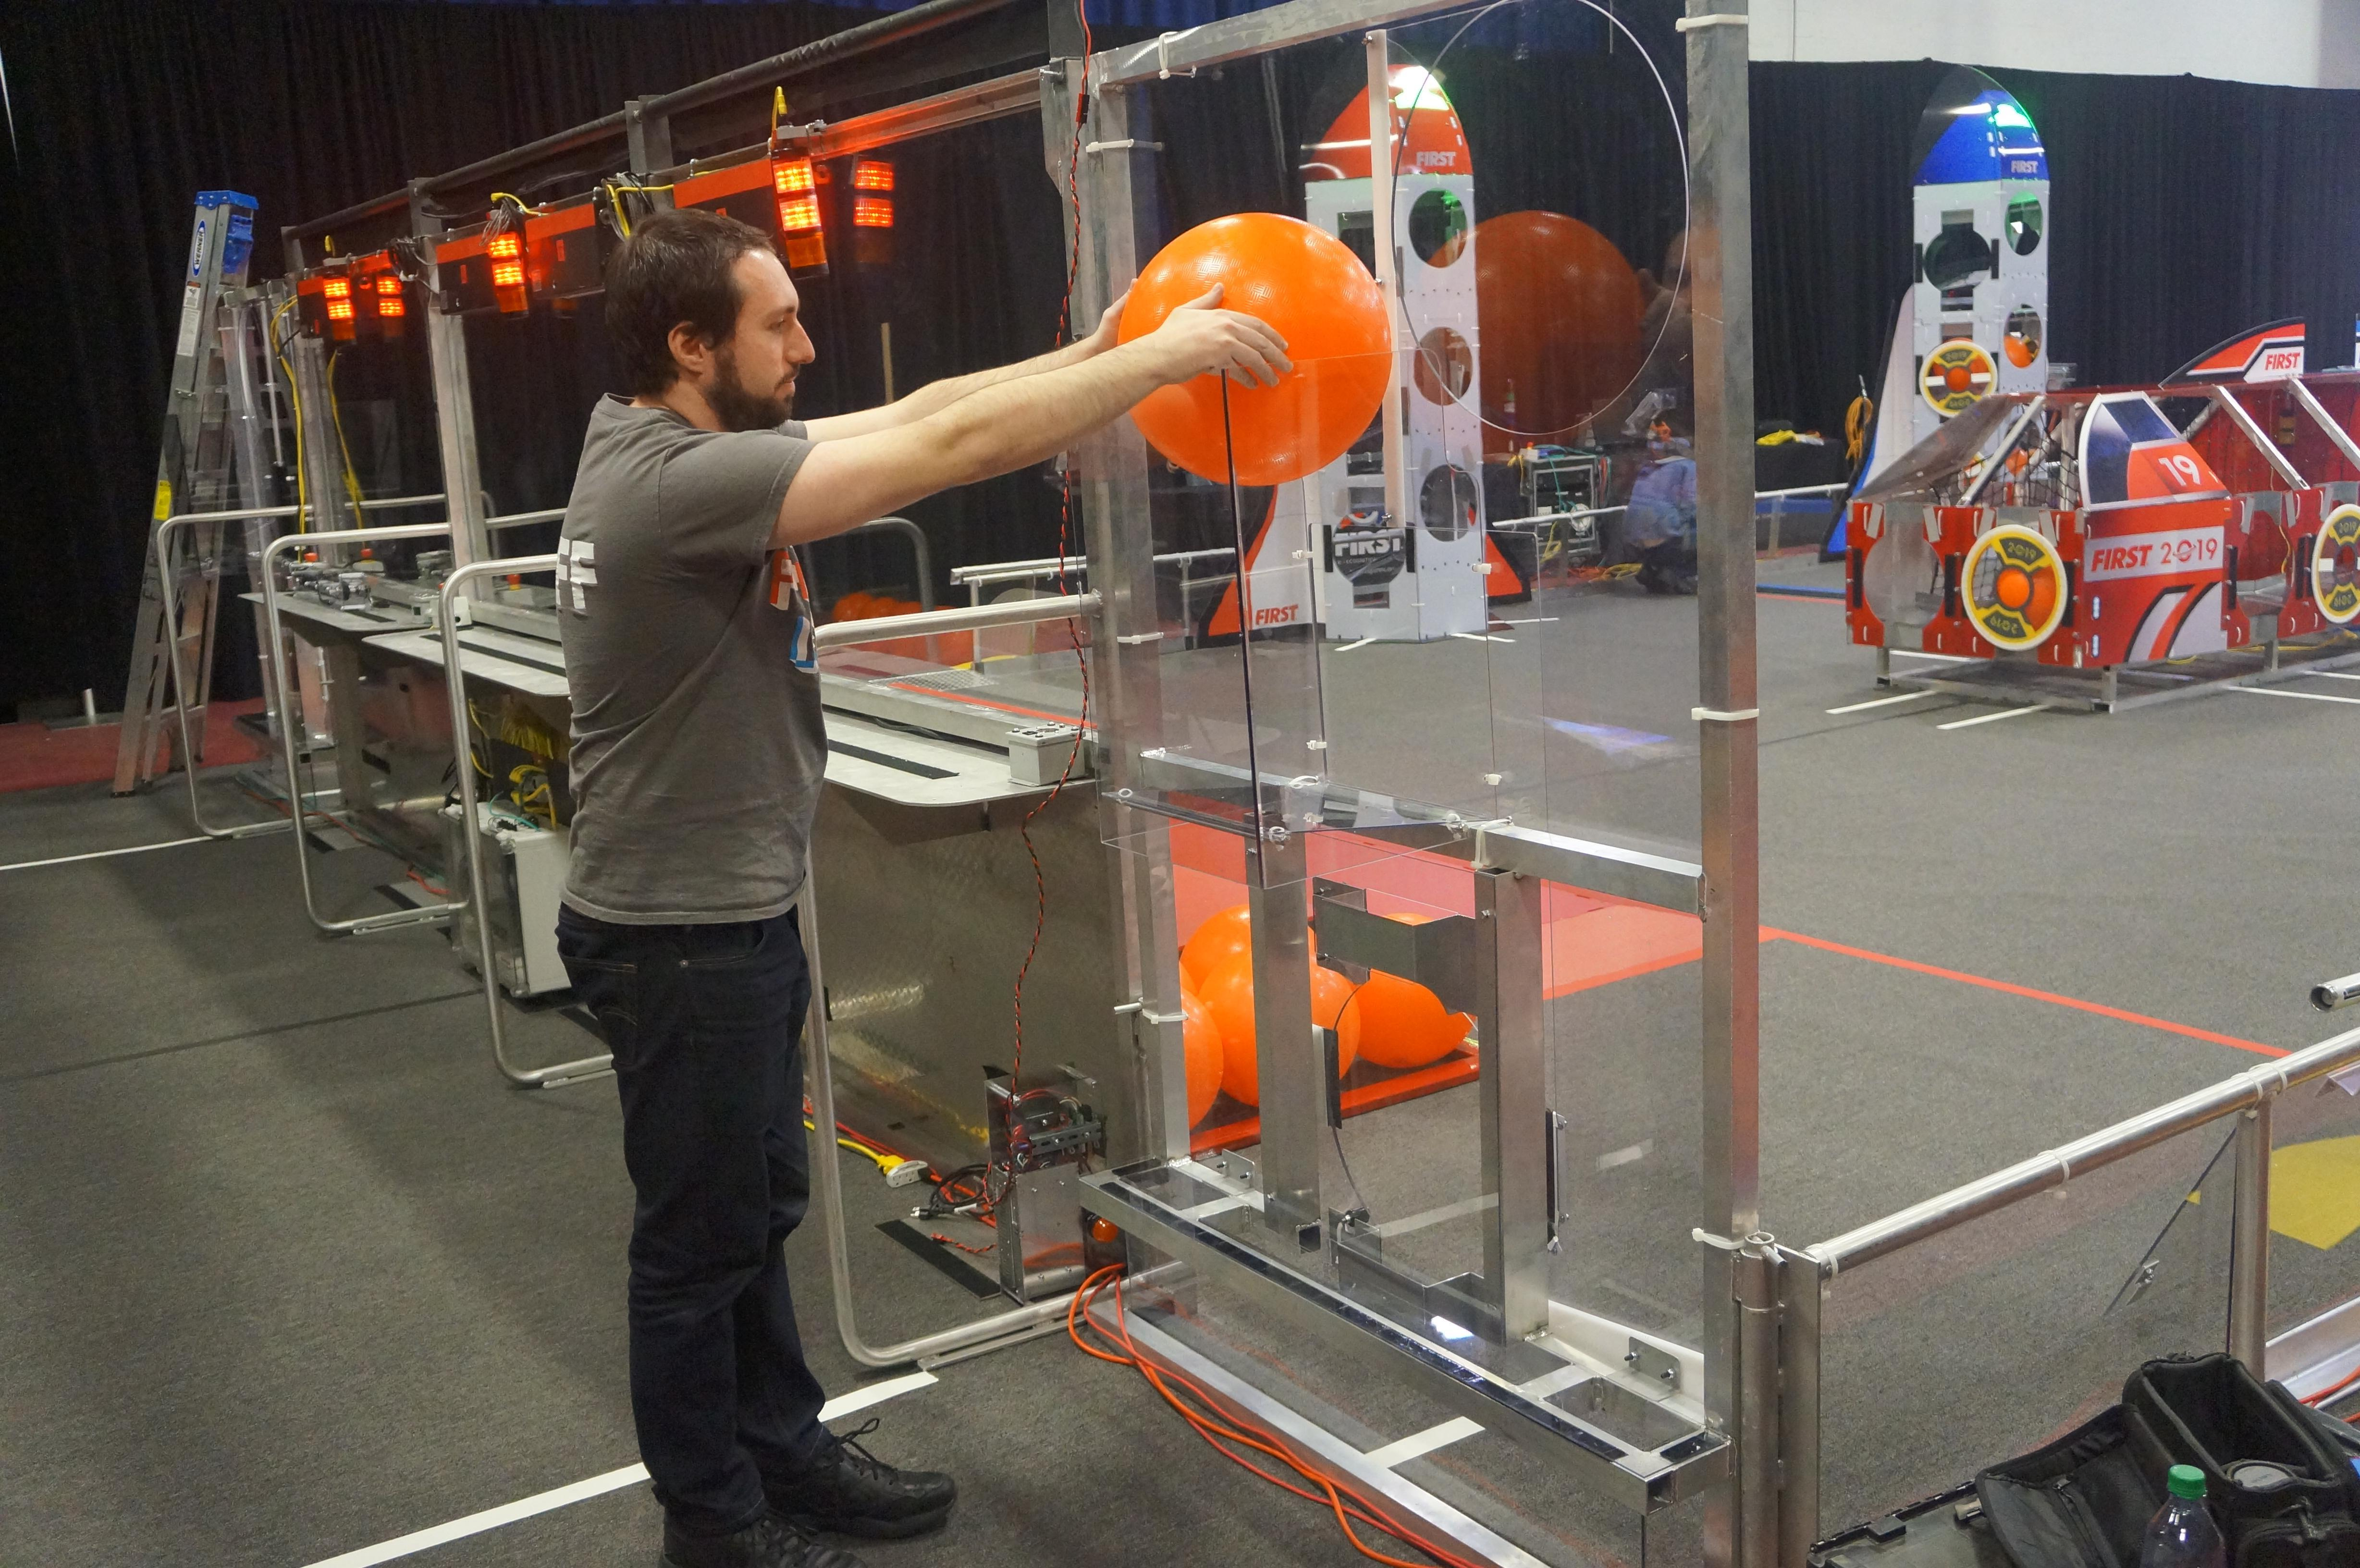Ball: (1118, 210, 1393, 483)
